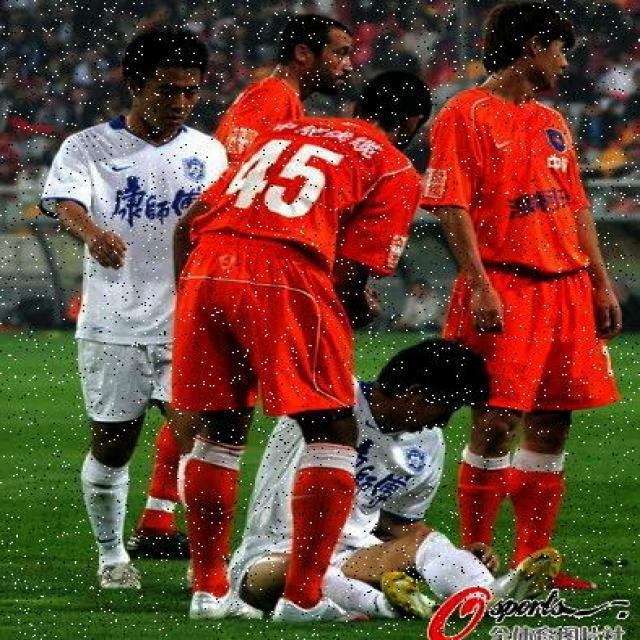fall: (276, 338, 539, 612)
